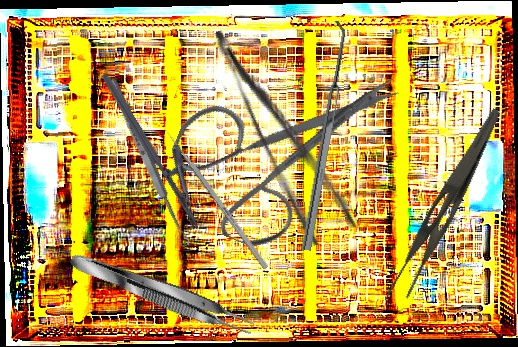Dressing Forceps: (209, 11, 360, 249), (380, 97, 503, 313)
Iris Scissors: (149, 12, 403, 277)
Needle Holder: (100, 60, 221, 231)
Pusher: (162, 126, 269, 270)
Spatula Surgical: (292, 20, 351, 251)
Surgical Spoon: (106, 77, 192, 249)
Tissue Forceps: (66, 245, 258, 342)
